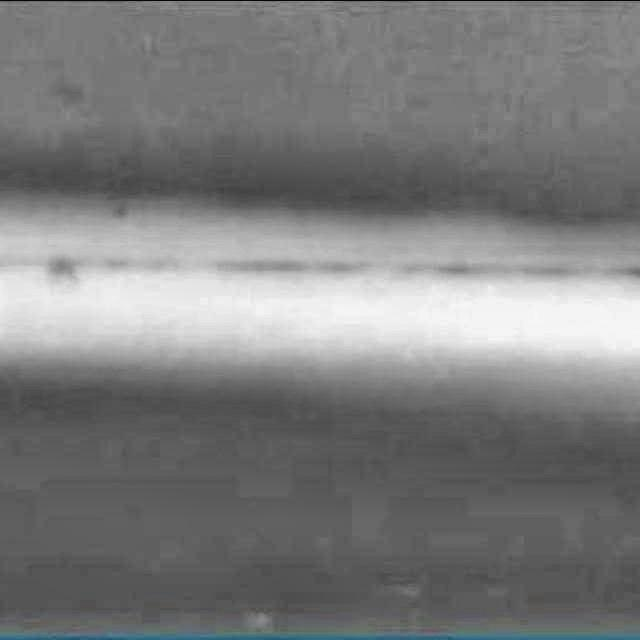LoP-LoF: (2, 217, 640, 312)
